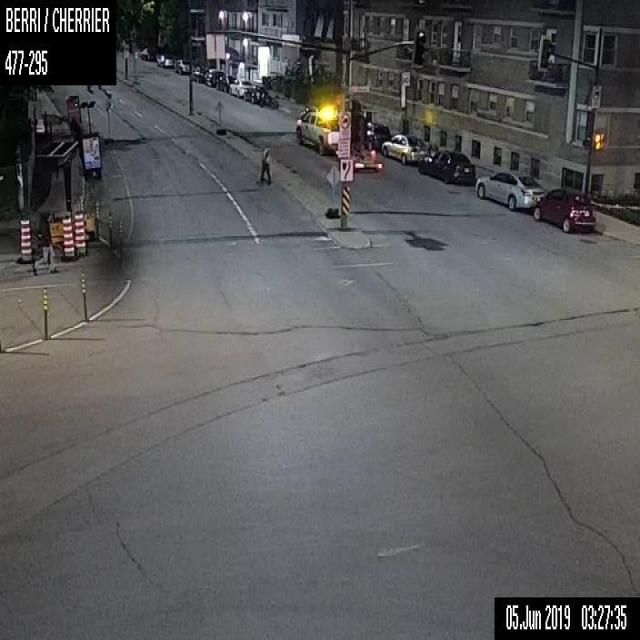construction: (325, 164, 338, 217), (104, 96, 115, 144), (73, 211, 84, 253), (62, 216, 73, 258), (20, 219, 30, 261), (214, 100, 224, 133), (117, 218, 123, 266), (81, 273, 87, 320), (43, 284, 47, 339), (108, 208, 113, 249)
pedestrian: (32, 212, 59, 273), (259, 144, 271, 184)
vehicle: (295, 96, 381, 171), (533, 188, 595, 232), (475, 170, 544, 208), (418, 150, 474, 184), (382, 133, 426, 163), (228, 78, 255, 98), (370, 122, 390, 148), (244, 84, 268, 103), (204, 68, 224, 86), (216, 74, 236, 92), (259, 91, 279, 108), (191, 66, 208, 83), (174, 58, 189, 74), (140, 48, 156, 59), (157, 54, 164, 66), (164, 58, 173, 66)
